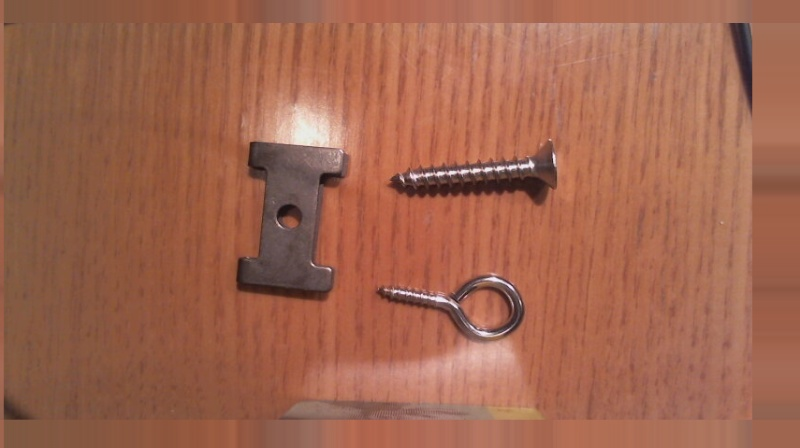O001: (369, 268, 526, 345)
O002: (230, 136, 343, 298)
S001: (384, 135, 561, 197)
